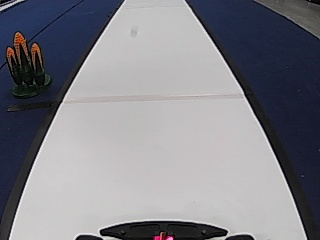corn: (4, 30, 54, 97)
